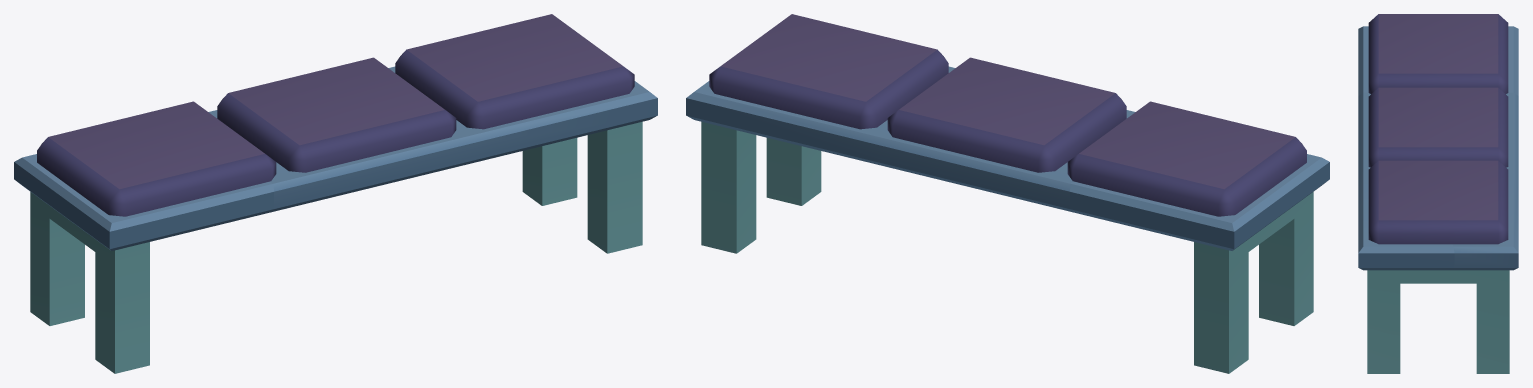
File: bench_break.fbx
The picture shows the model from 3 angles, left to right: view 1: azimuth 30°, elevation 25°; view 2: azimuth 150°, elevation 25°; view 3: azimuth 270°, elevation 25°; orthographic projection. The views are drawn at different scales.
Visible parts, largest first — view 1: bench_break6, bench_break4, bench_break5, bench_break7, bench_break11, bench_break2, bench_break1, bench_break8, bench_break3, bench_break9; view 2: bench_break6, bench_break4, bench_break5, bench_break7, bench_break3, bench_break9, bench_break10, bench_break12, bench_break2, bench_break11; view 3: bench_break5, bench_break6, bench_break4, bench_break7, bench_break1, bench_break10, bench_break12, bench_break8, bench_break9, bench_break11.
Boxes of the visible parts, bbox=[...] form: bench_break6: bbox=[37, 101, 276, 216]; bench_break4: bbox=[217, 57, 456, 172]; bench_break5: bbox=[395, 14, 634, 129]; bench_break7: bbox=[522, 121, 642, 253]; bench_break11: bbox=[52, 181, 273, 250]; bench_break2: bbox=[95, 242, 149, 373]; bench_break1: bbox=[454, 81, 657, 165]; bench_break8: bbox=[270, 133, 465, 211]; bench_break3: bbox=[30, 192, 103, 325]; bench_break9: bbox=[14, 154, 62, 209]; bench_break6: bbox=[1067, 101, 1306, 216]; bench_break4: bbox=[887, 57, 1126, 172]; bench_break5: bbox=[709, 14, 948, 129]; bench_break7: bbox=[701, 121, 821, 253]; bench_break3: bbox=[1194, 199, 1303, 373]; bench_break9: bbox=[1070, 181, 1272, 250]; bench_break10: bbox=[686, 81, 889, 165]; bench_break12: bbox=[878, 133, 1073, 211]; bench_break2: bbox=[1259, 192, 1313, 325]; bench_break11: bbox=[1262, 154, 1329, 222]; bench_break5: bbox=[1368, 160, 1508, 244]; bench_break6: bbox=[1368, 14, 1508, 93]; bench_break4: bbox=[1368, 87, 1508, 167]; bench_break7: bbox=[1367, 270, 1509, 373]; bench_break1: bbox=[1358, 169, 1454, 270]; bench_break10: bbox=[1452, 169, 1518, 270]; bench_break12: bbox=[1506, 92, 1518, 174]; bench_break8: bbox=[1358, 92, 1370, 174]; bench_break9: bbox=[1508, 26, 1518, 95]; bench_break11: bbox=[1358, 26, 1368, 95].
Bounding box in the file's own units: 173 × 53.4 × 52.22.
